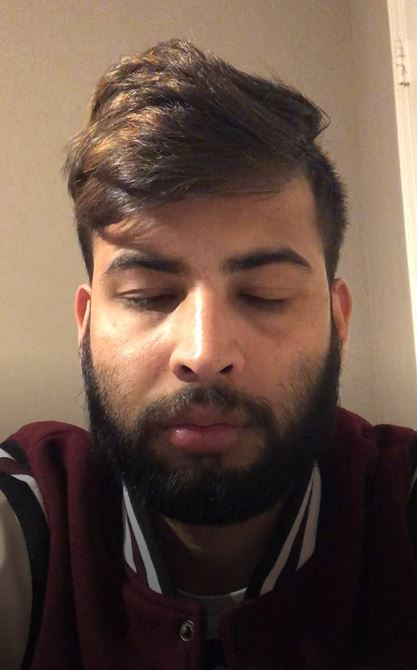Sleeping: (100, 264, 324, 324)
